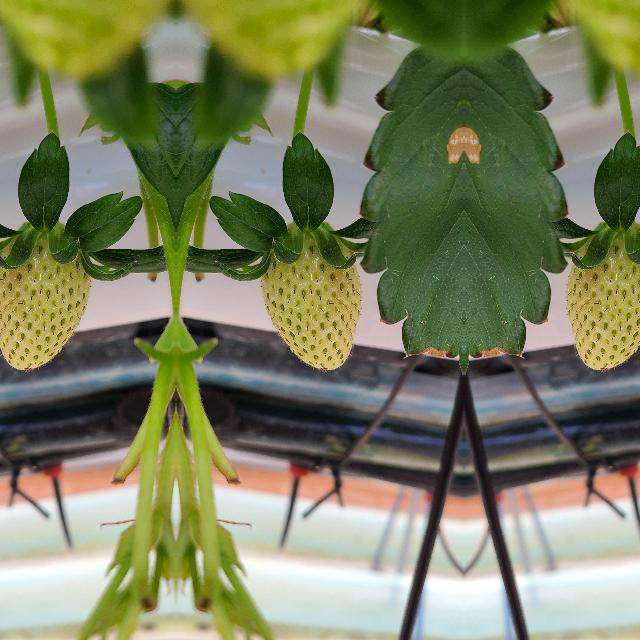Health_25: (260, 232, 360, 368), (0, 231, 90, 368), (566, 231, 640, 368)
